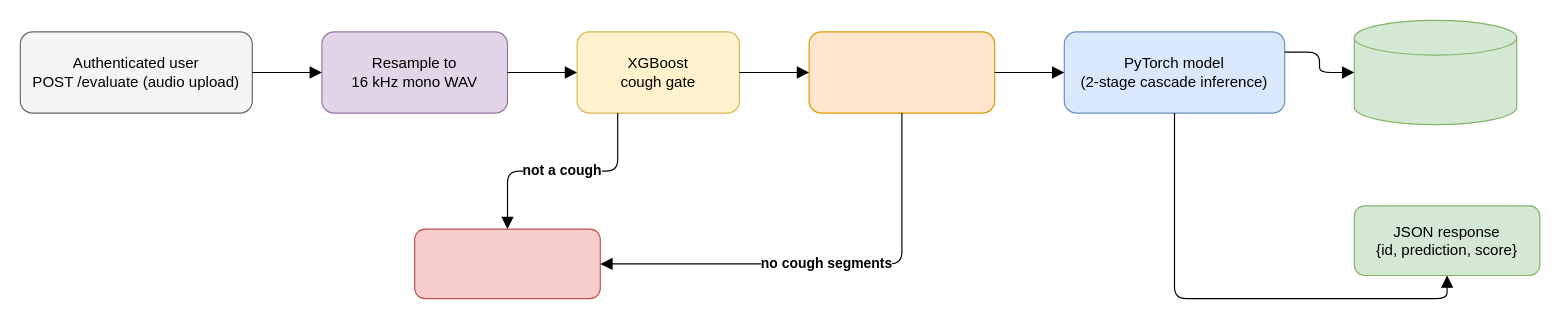
The diagram is 1560 pixels wide and 331 high, and some of its shapes have lost their labels. The shapes that lost their labels are listed below. From the top down, each one's box as (x1, y1, x2, y2) in pixels, then its label:
(808, 31, 995, 113): Segment coughs from recording
(1353, 19, 1517, 125): Store result SQLite (per user)
(414, 228, 600, 299): HTTP 422 (rejected)
